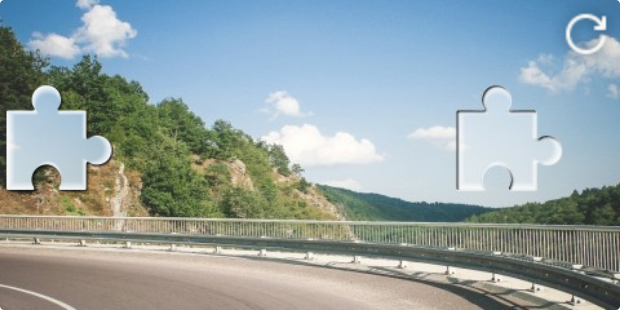target: (457, 85, 564, 190)
